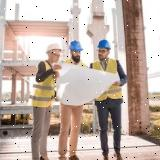Helmet: (44, 42, 64, 54), (68, 40, 84, 51), (96, 39, 112, 50)
Vest: (91, 59, 123, 102), (31, 59, 57, 107), (61, 58, 88, 68)
